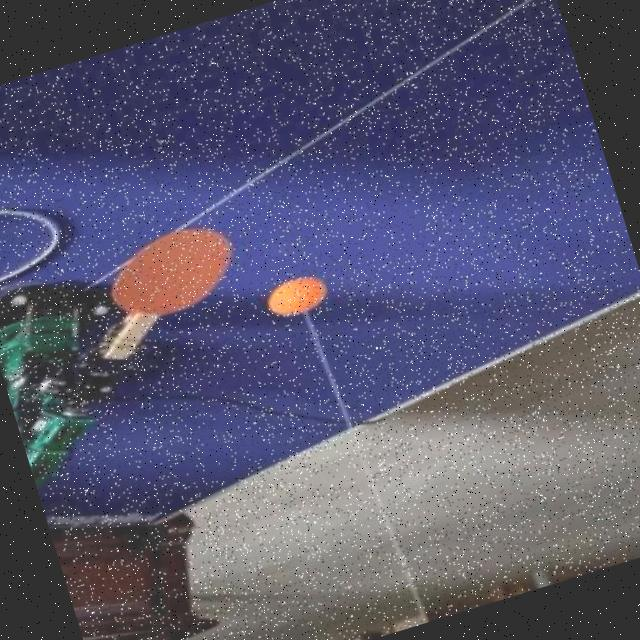ping-pong-ball: (266, 272, 327, 318)
